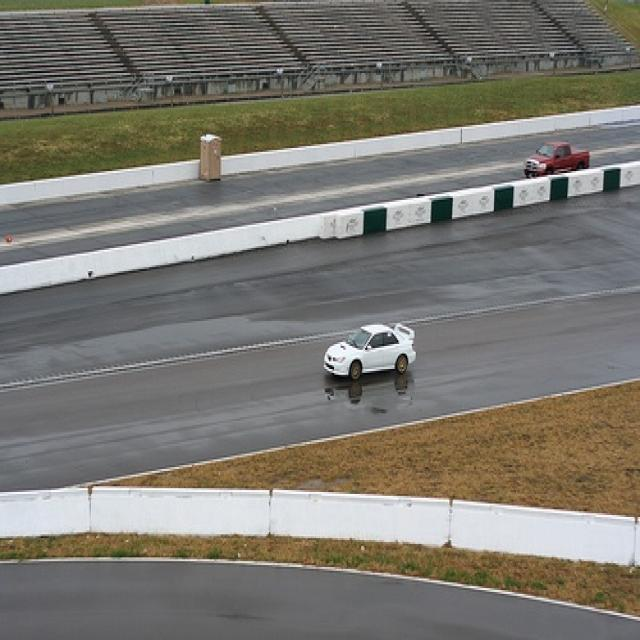car: (321, 317, 420, 388), (522, 134, 593, 178)
